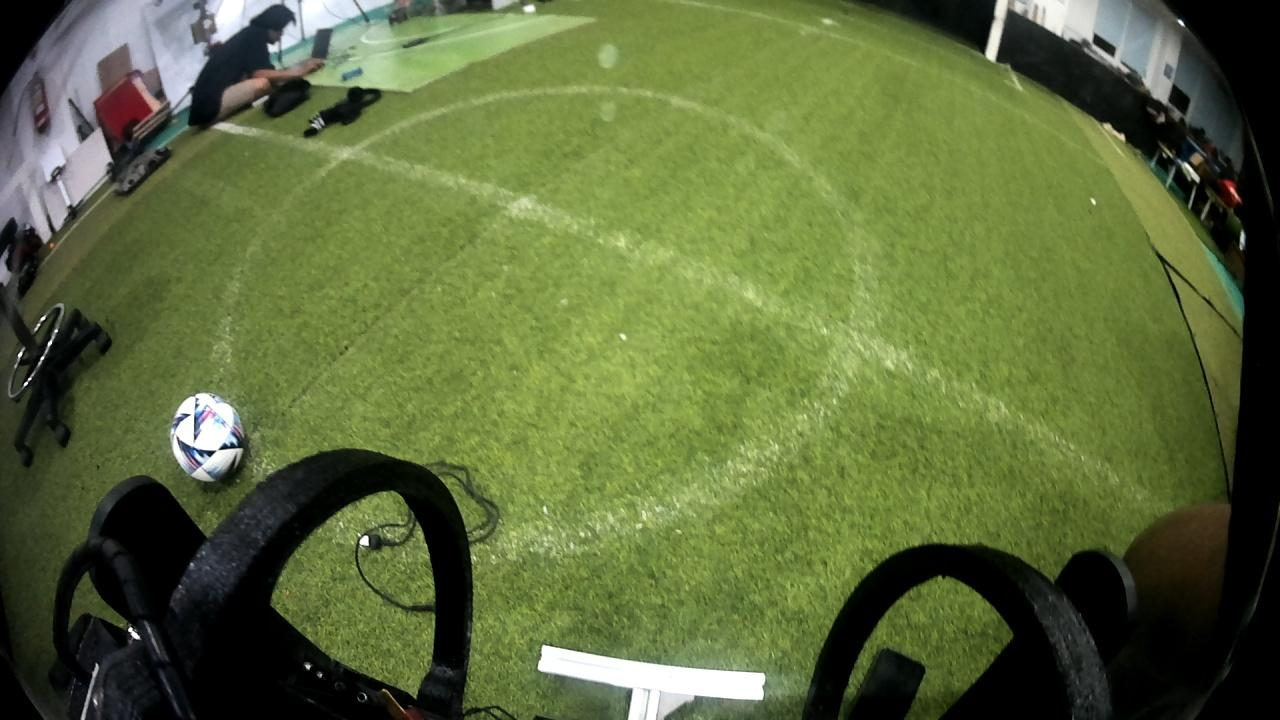ball: (167, 386, 254, 492)
